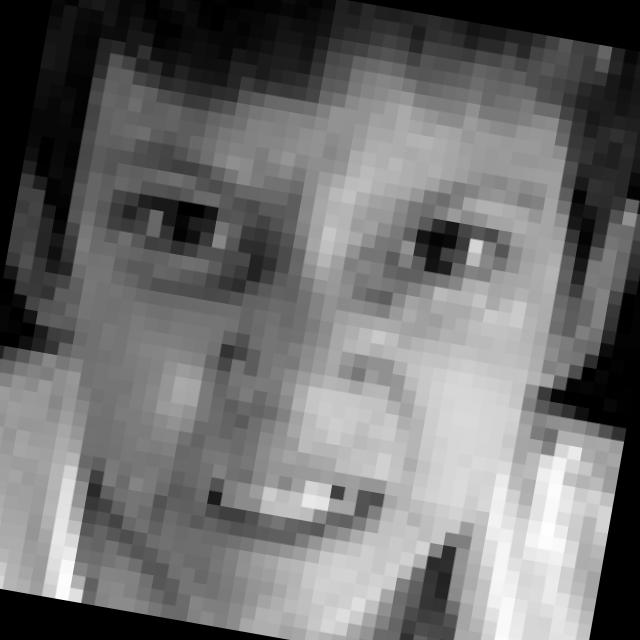angry: (44, 104, 561, 591)
